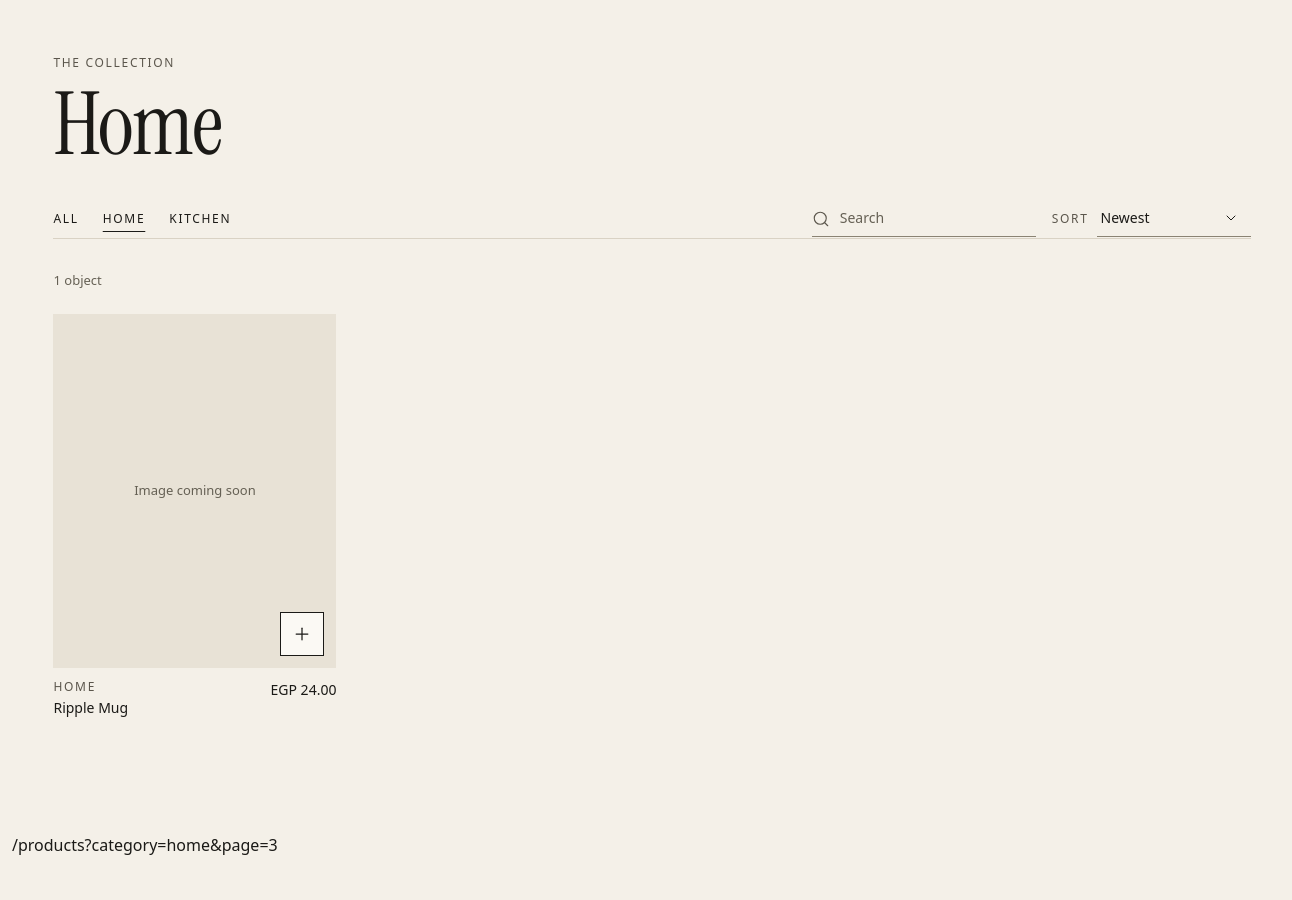
it: ProductsPage › choosing another category writes its slug to the URL and requests it, starting again from page 1
This screenshot has width=1292, height=900.
Check: the link "Ripple Mug" is shown, box [53, 698, 128, 718]
What coordinates should you click on to do the following:
click the link "Kitchen"
I would click on:
 (200, 218)
Its box is [169, 210, 231, 227].
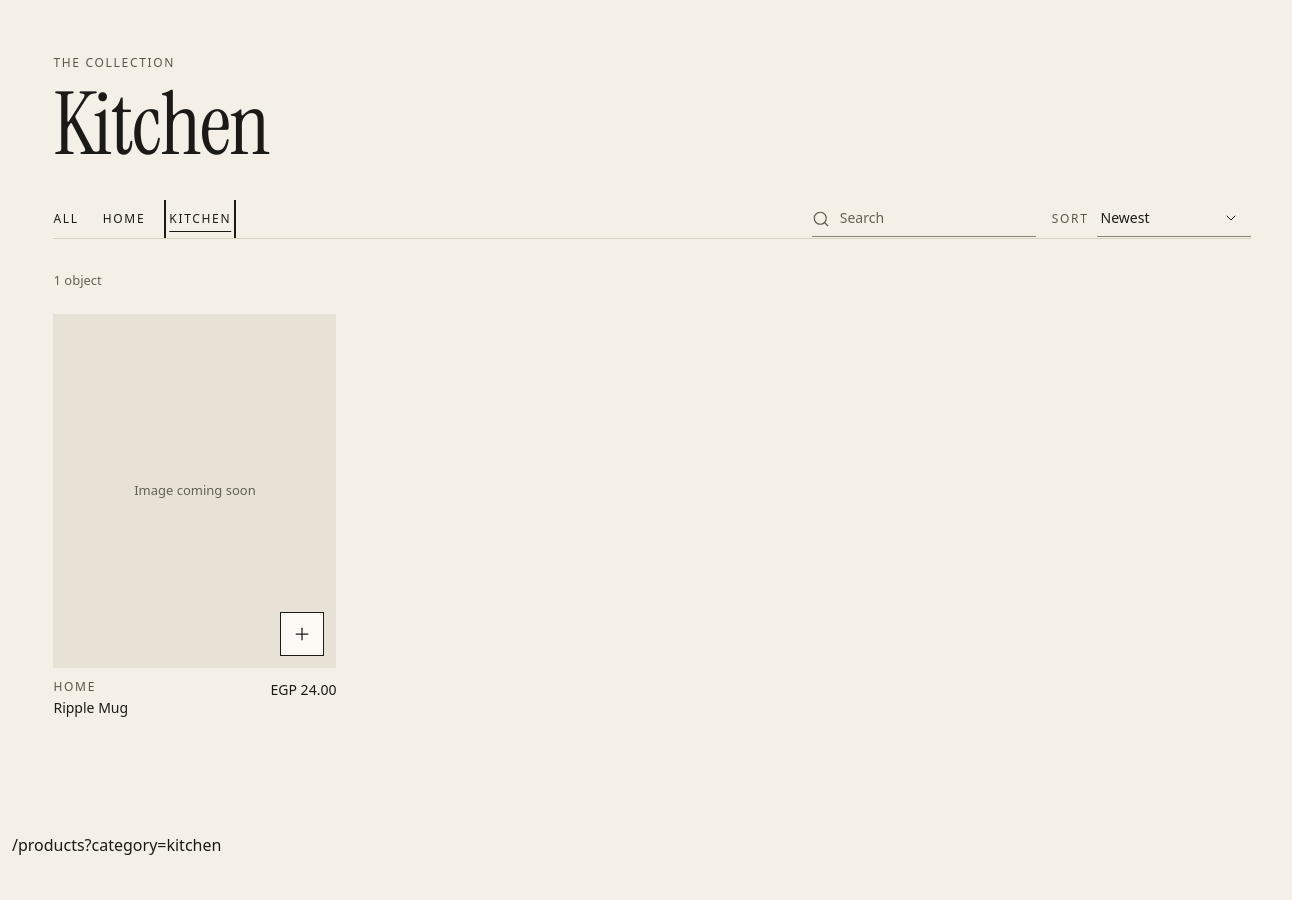
Check: the text named "current url" reads "/products?category=kitchen", box [12, 834, 221, 856]
